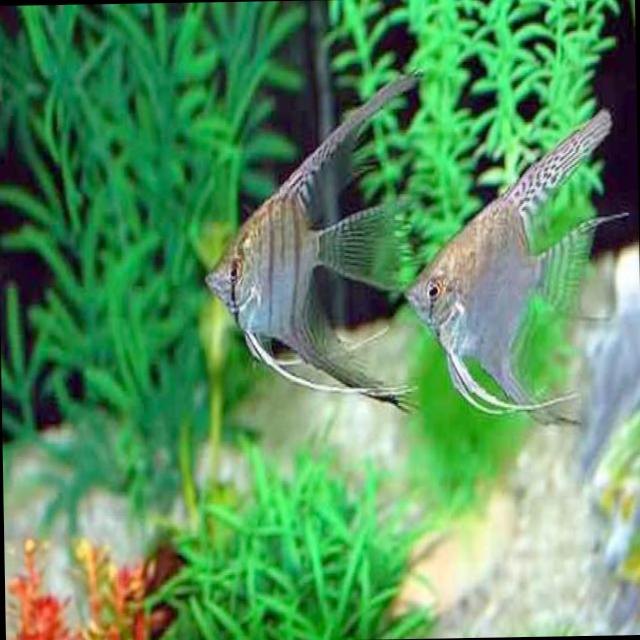AngelFish: (202, 67, 404, 428), (404, 112, 627, 420)
